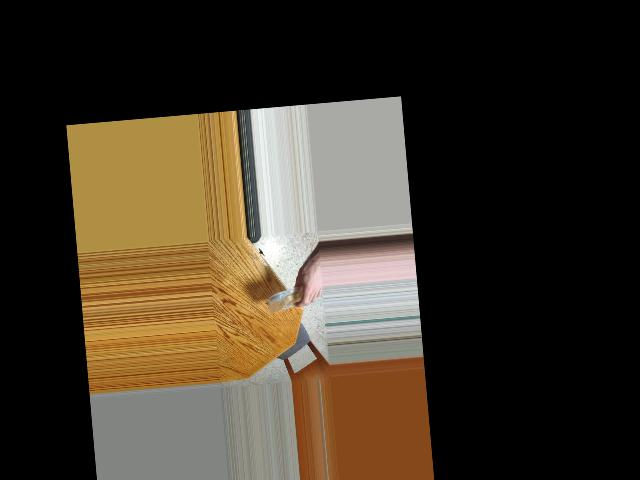cheese: (269, 279, 304, 313)
